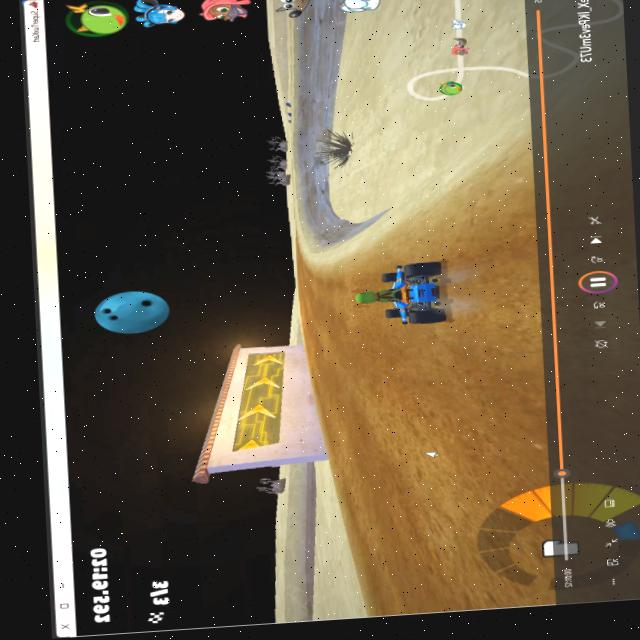nitro: (283, 100, 292, 109)
player_kart: (351, 259, 450, 326)
track: (447, 209, 564, 611), (345, 321, 472, 618), (322, 270, 357, 512), (299, 268, 328, 405), (291, 235, 303, 276)
